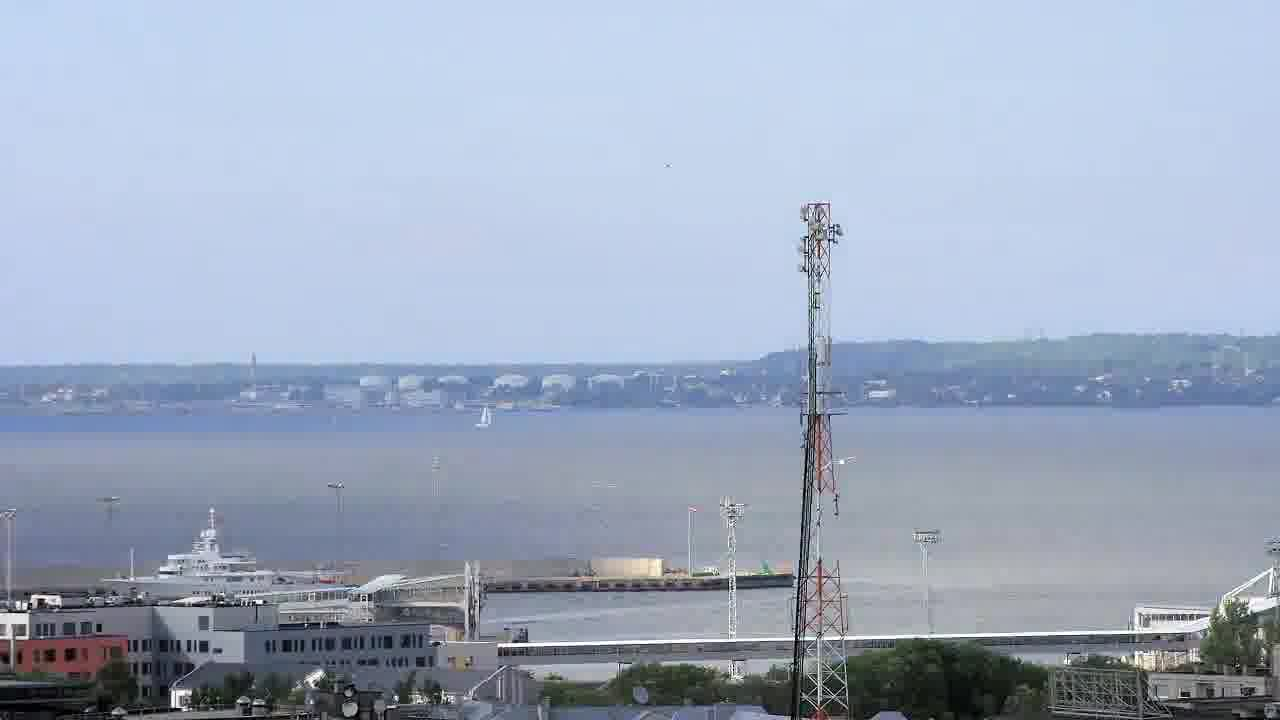type-2: (458, 389, 514, 443)
type-3: (88, 507, 346, 605)
